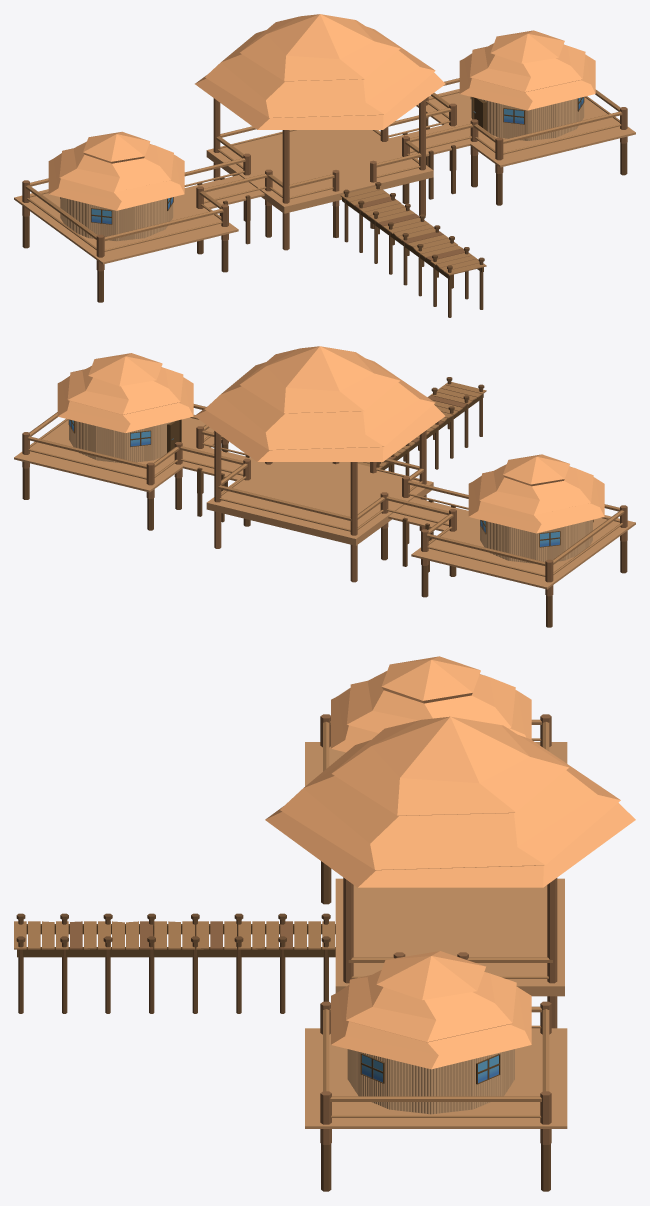
Rendered from Pier.fbx.
3 renders of one model, top to bottom at view 1: azimuth 30°, elevation 25°; view 2: azimuth 150°, elevation 25°; view 3: azimuth 270°, elevation 25°, orthographic. The views are drawn at different scales.
Parts seen in each view (by area): view 1: Bungalows, Pier; view 2: Bungalows, Pier; view 3: Bungalows, Pier.
Part boxes in pixels (x1,y1,x2,y2): Bungalows: (14,14,635,302); Pier: (340,182,486,317); Bungalows: (14,346,635,627); Pier: (357,377,486,475); Bungalows: (265,656,635,1191); Pier: (14,913,335,1013).
Size of the model in its own units: 2928 by 986 by 1953.
